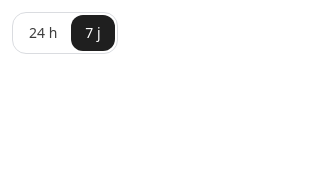
Test: SegmentedControl › selects the clicked segment
Click the radio button labelled "24 h" at (43,33), box [15,15,71,51]
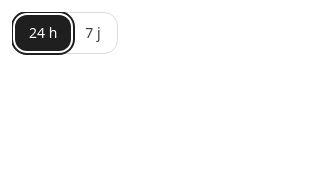
Result: the radio button labelled "24 h" is checked at [15,15,71,51]
Result: the radio button labelled "7 j" is not checked at [71,15,115,51]
